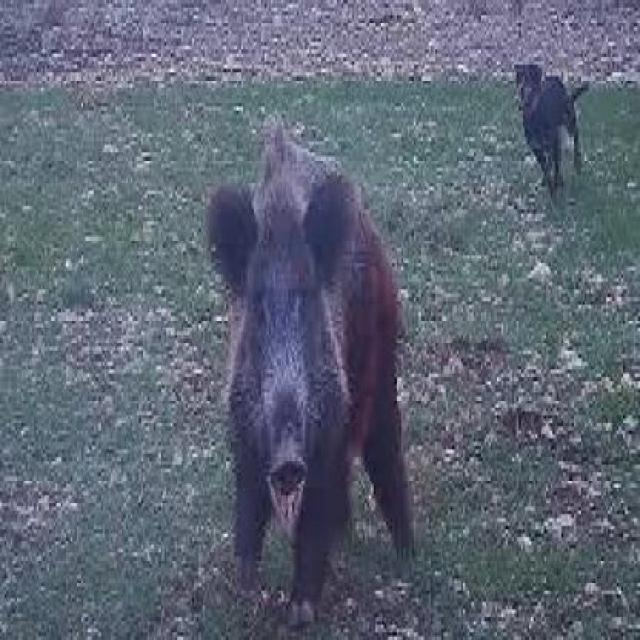wildboar: (199, 86, 423, 640)
